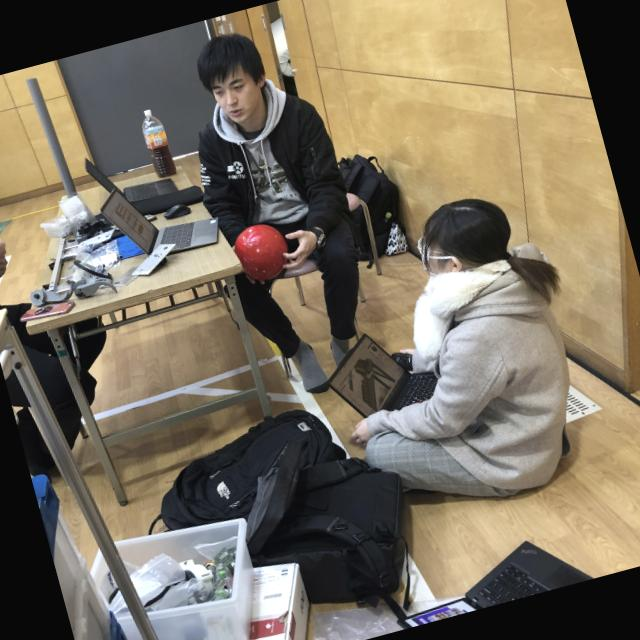red_ball: (228, 218, 295, 286)
